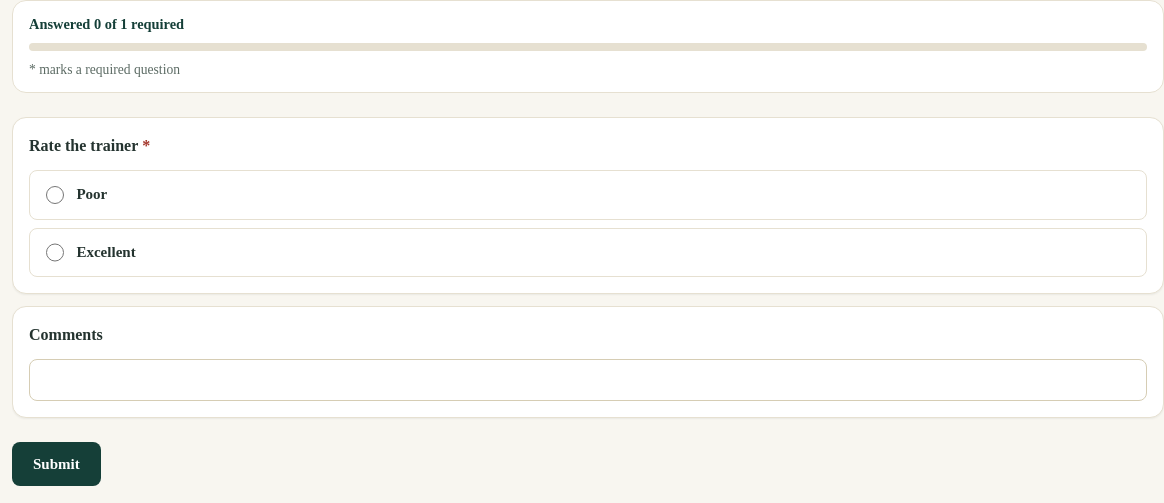
Test: SurveyForm › shows an answered-of-required progress indicator that follows local answers
expect the text "Answered 0 of 1 required" is shown: met, box [29,16,184,32]
Click the radio button labelled "Excellent". click: point(55, 252)
box: [46,243,64,262]
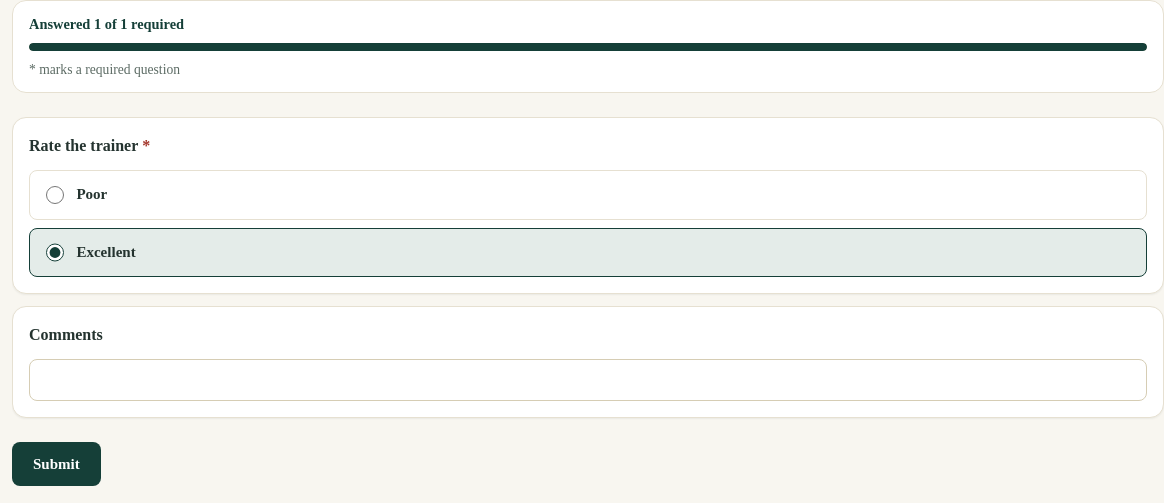
expect the text "Answered 1 of 1 required" is shown: met, box [29,16,184,32]
